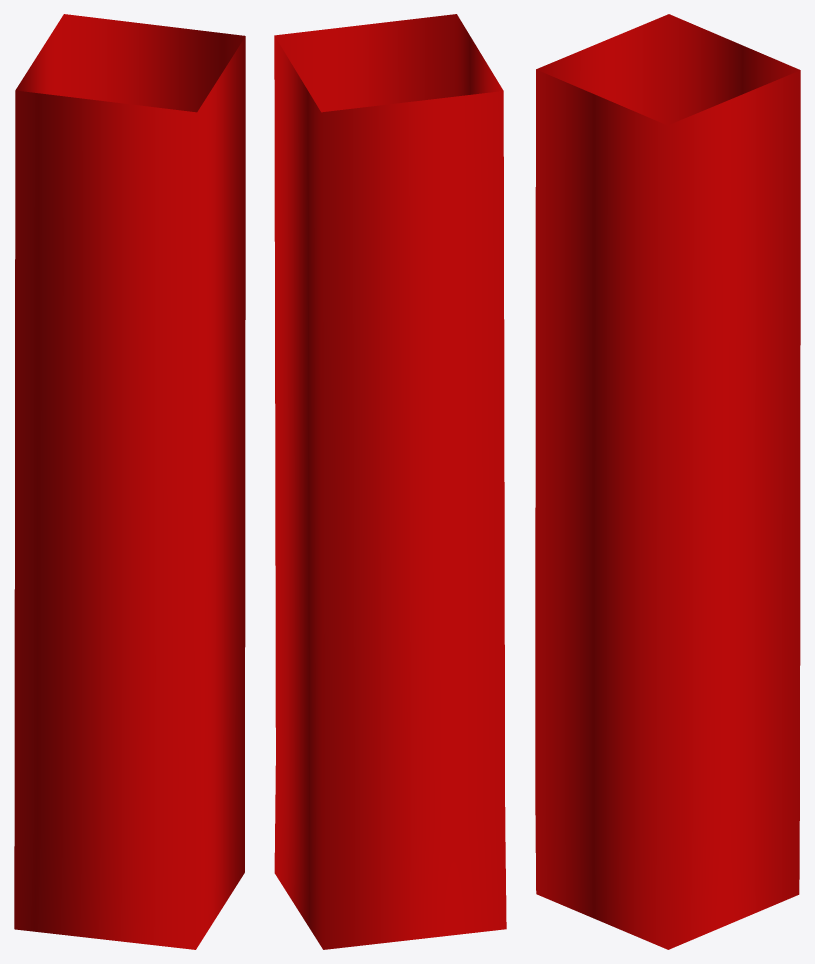
Rendered from Thigh.obj.
3 views of the same model, side by side, from view 1: azimuth 30°, elevation 25°; view 2: azimuth 150°, elevation 25°; view 3: azimuth 270°, elevation 25° (orthographic).
Bounding box in the file's own units: 1.39 × 4.8 × 1.4.
1 material, 1 textured.
